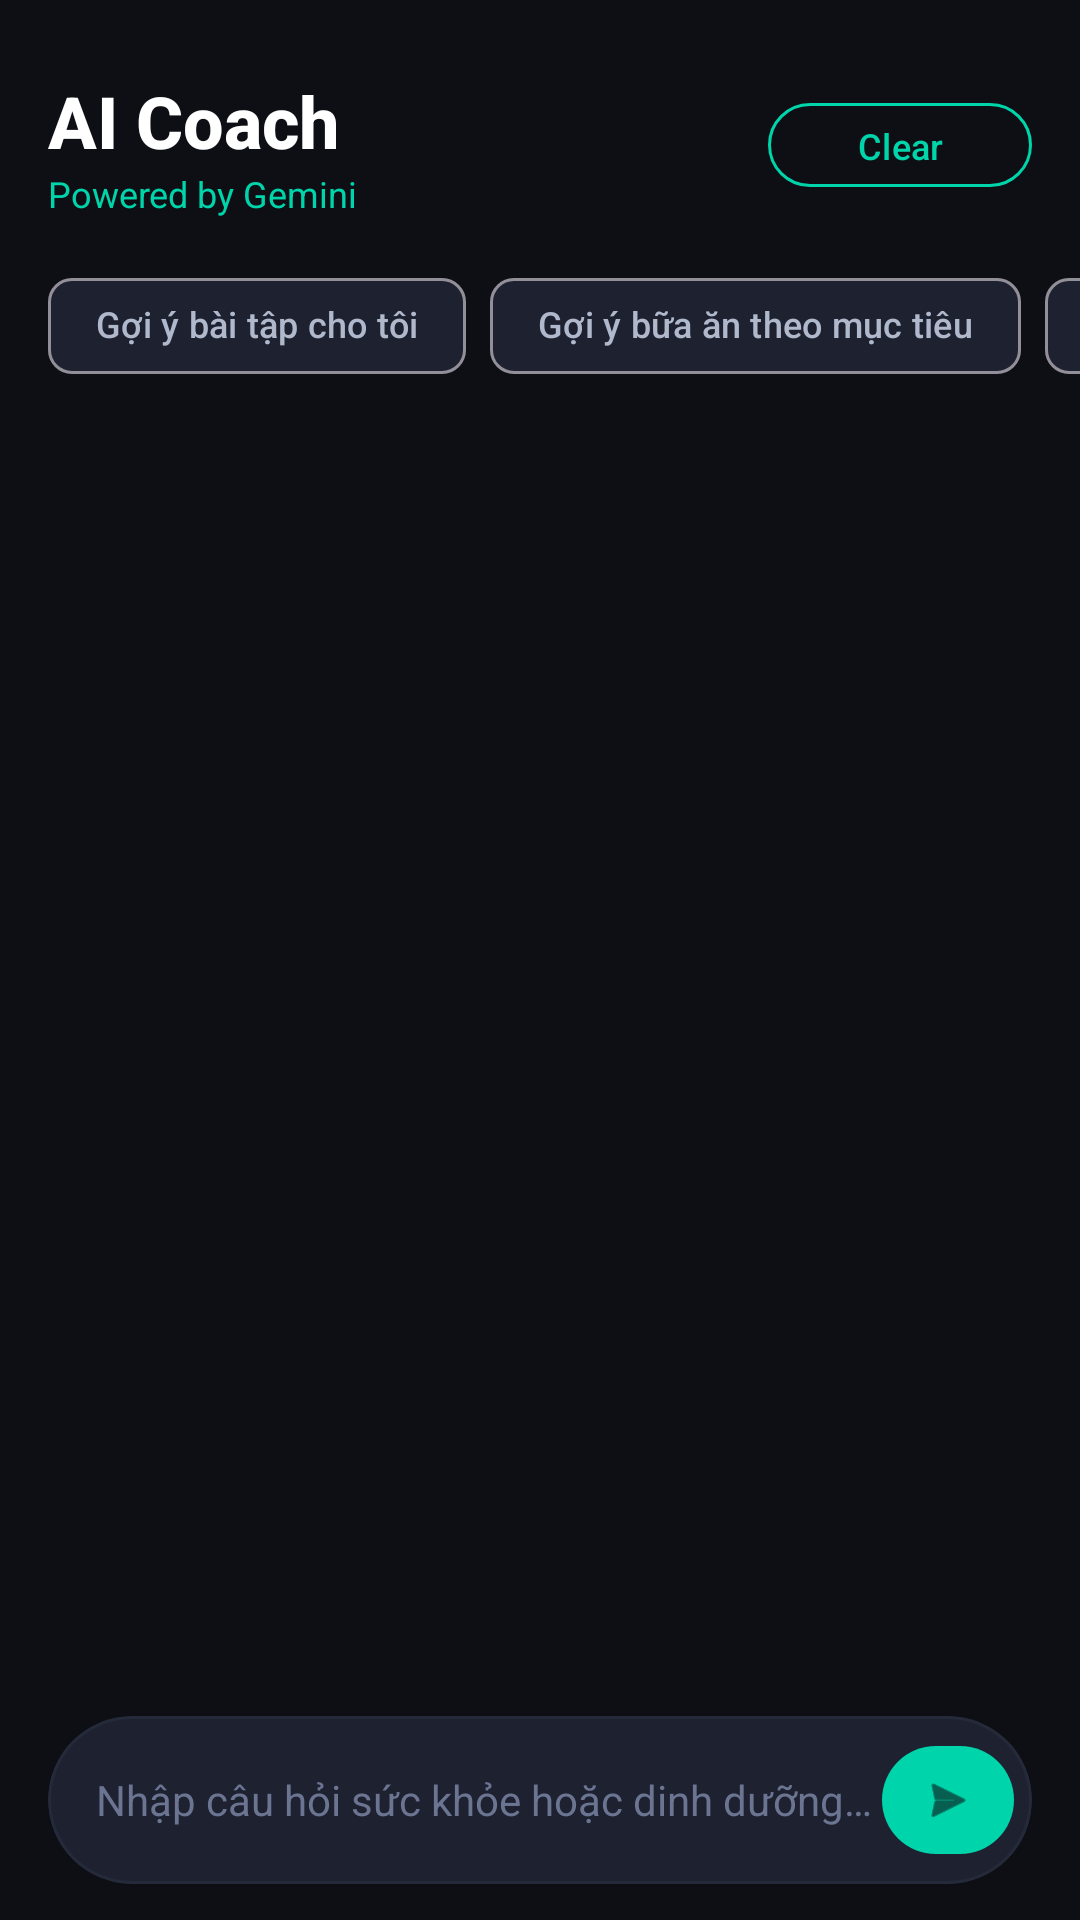

Point at icon controls on the screen. Image size 1080×1920, points as (x=x, y=y).
send: (x=948, y=1800)
